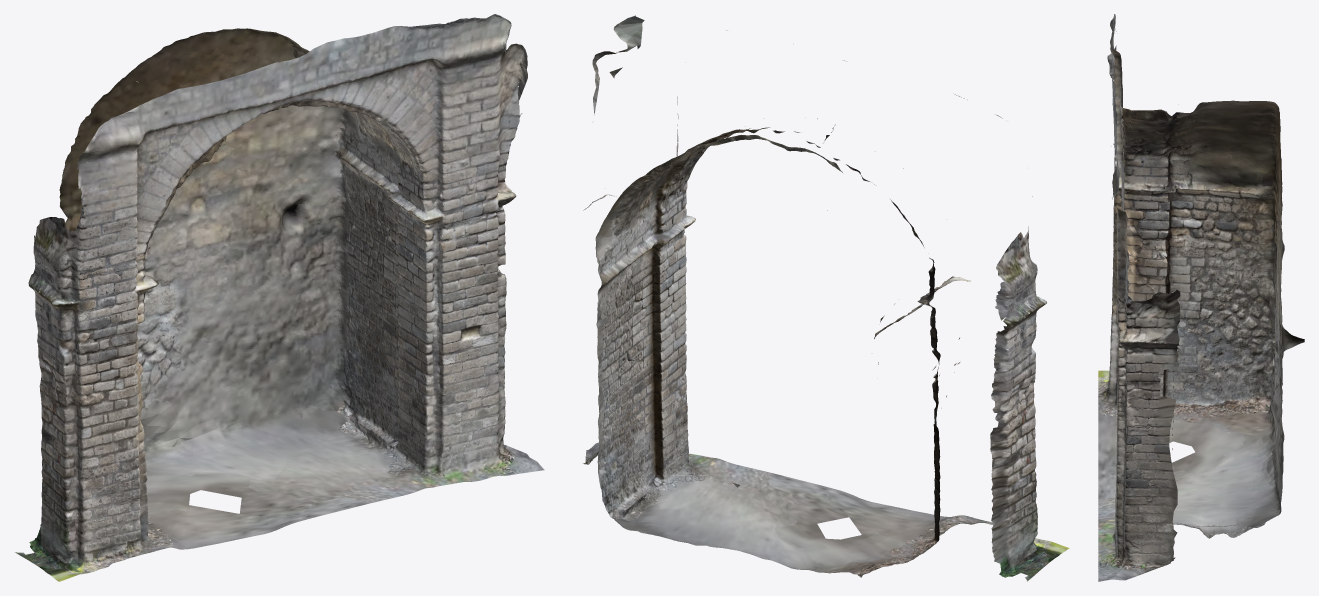
Rendered from roman_old_arch_pompeii 4k.glb.
The picture shows the model from 3 angles, left to right: view 1: azimuth 30°, elevation 25°; view 2: azimuth 150°, elevation 25°; view 3: azimuth 270°, elevation 25°; orthographic projection. The views are drawn at different scales.
Visible parts, largest first — view 1: Object_4; view 2: Object_4; view 3: Object_4.
Part boxes in pixels (x1,y1,x2,y2): Object_4: (15, 14, 544, 581); Object_4: (583, 15, 1069, 581); Object_4: (1098, 14, 1304, 581).
Bounding box in the file's own units: 4.68 × 4.34 × 1.99.
1 material, 1 textured.
